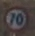limite 70: (3, 5, 29, 32)
